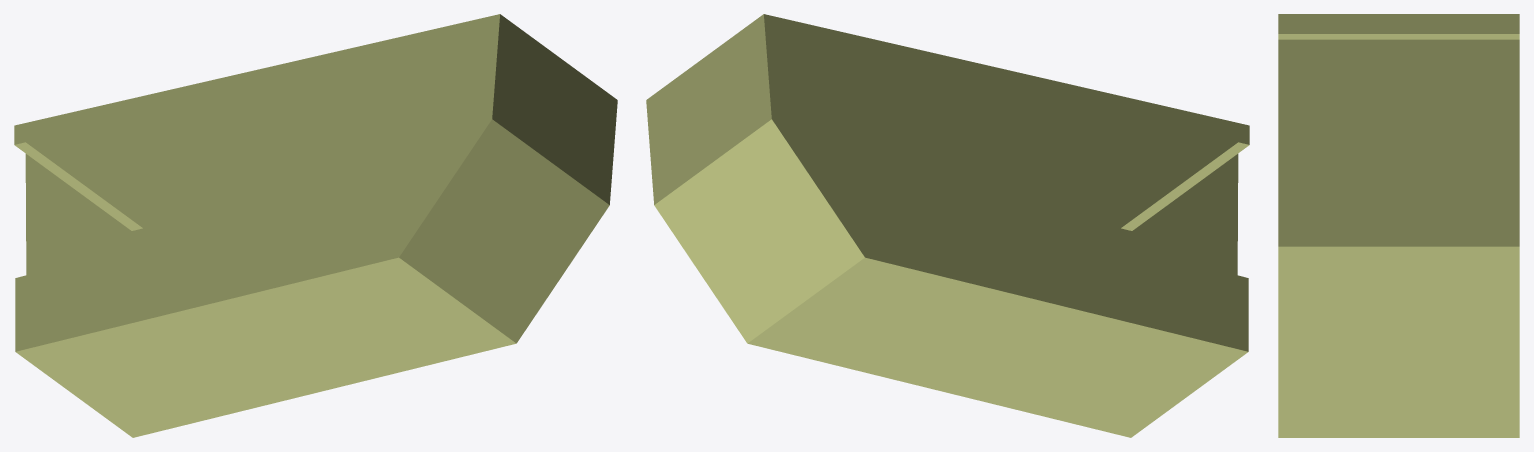
3 renders of one model, left to right at view 1: azimuth 30°, elevation 25°; view 2: azimuth 150°, elevation 25°; view 3: azimuth 270°, elevation 25°, orthographic. The views are drawn at different scales.
Visible parts, largest first — view 1: 0_2_0_1_1_2_1_3_1; view 2: 0_2_0_1_1_2_1_3_1; view 3: 0_2_0_1_1_2_1_3_1.
Part boxes in pixels (x1,y1,x2,y2): 0_2_0_1_1_2_1_3_1: (14, 14, 617, 437); 0_2_0_1_1_2_1_3_1: (646, 14, 1249, 437); 0_2_0_1_1_2_1_3_1: (1278, 14, 1519, 437).
Size of the model in its own units: 21.47 by 9.56 by 9.
